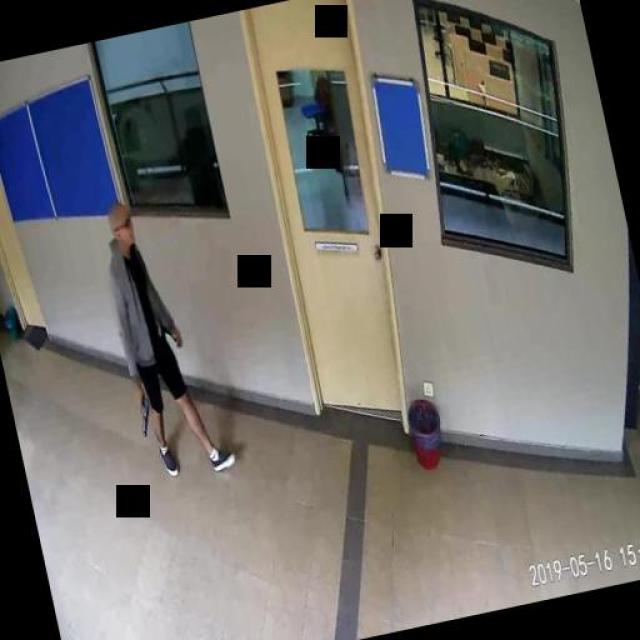gun: (130, 386, 152, 436)
